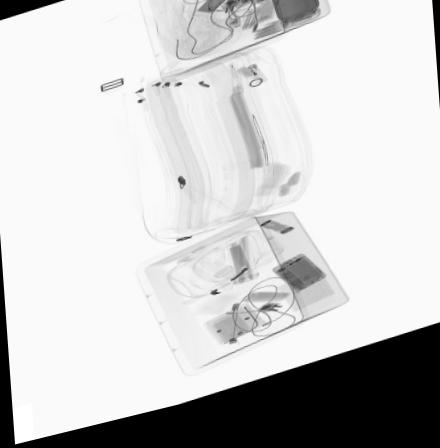Lighter: (244, 74, 268, 96)
